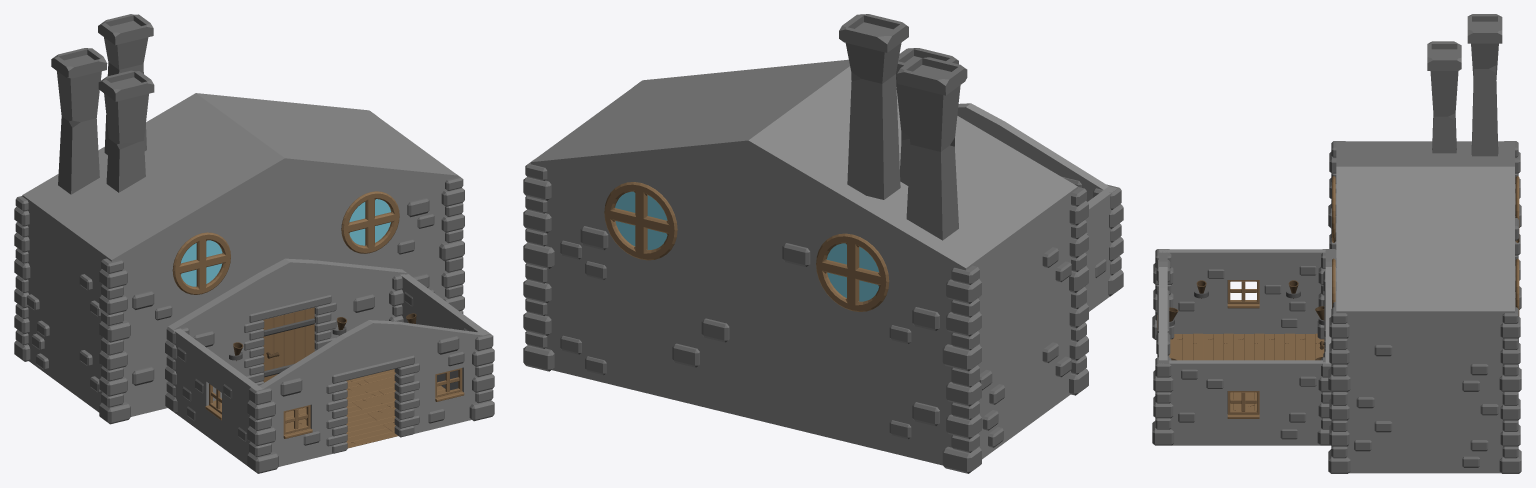
The model's file is House.glb.
3 renders of one model, left to right at view 1: azimuth 30°, elevation 25°; view 2: azimuth 150°, elevation 25°; view 3: azimuth 270°, elevation 25°, orthographic. The views are drawn at different scales.
Parts seen in each view (by area): view 1: House; view 2: House; view 3: House.
Boxes of the visible parts, x1=… form: House: x1=14, y1=14, x2=494, y2=473; House: x1=523, y1=14, x2=1123, y2=473; House: x1=1152, y1=14, x2=1521, y2=473.
Size of the model in its own units: 55.07 by 47.42 by 49.06.
